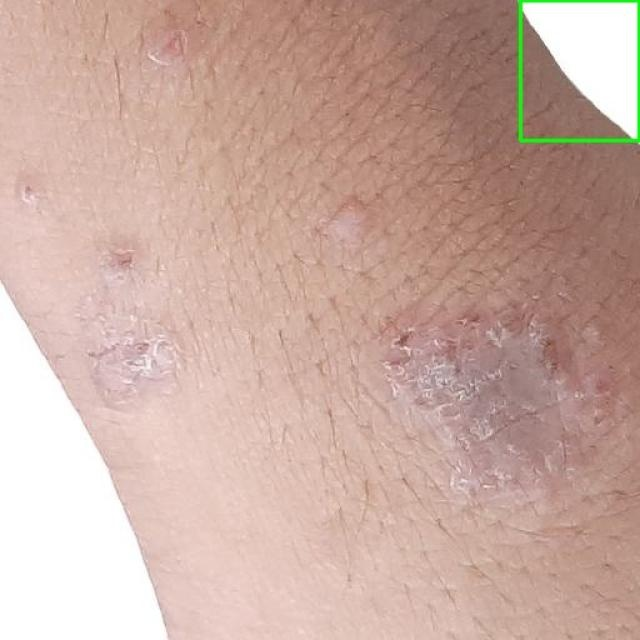Contact Dermatitis: (520, 0, 639, 140)
